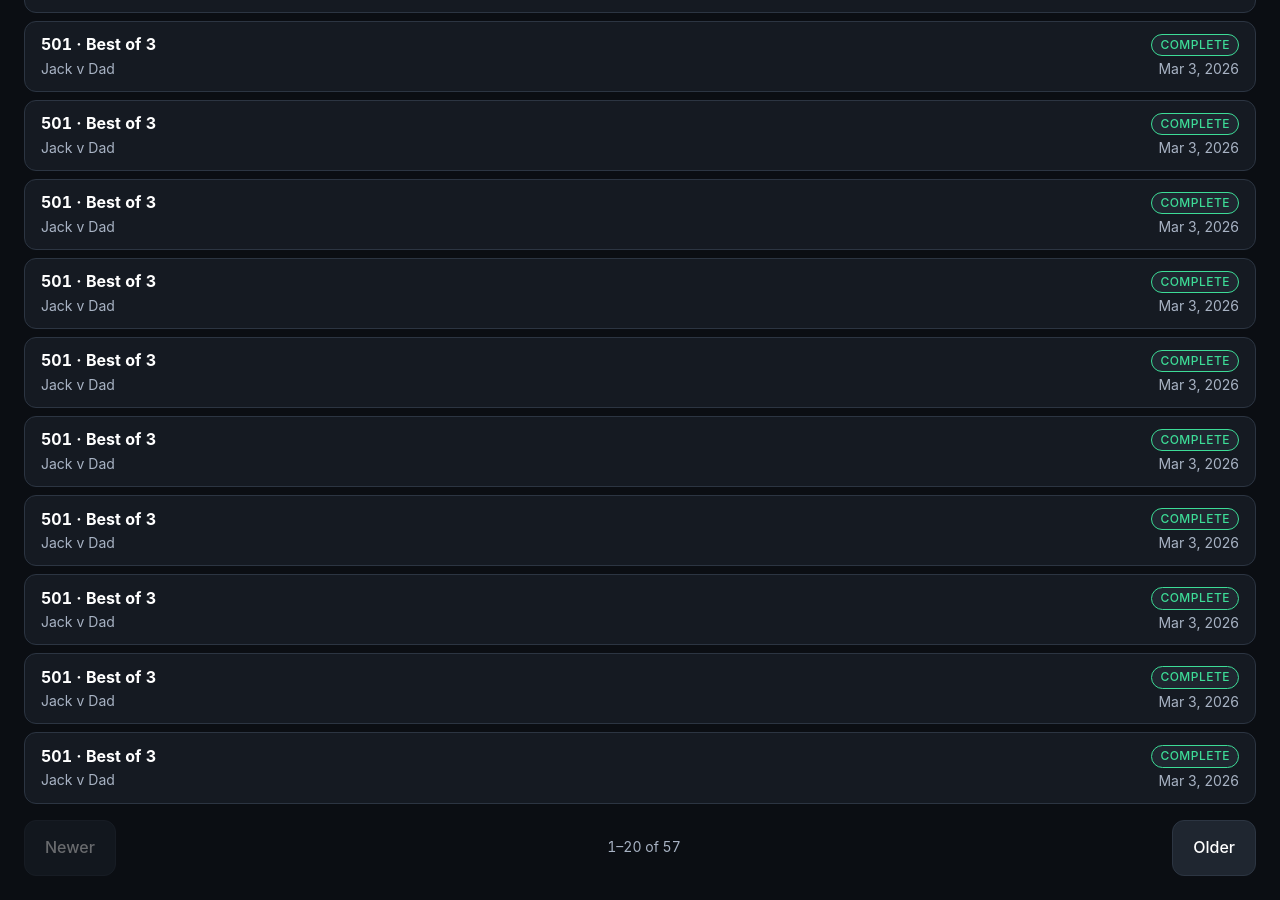
Test: the history list › pages back again, and reuses the page it already had
(page scrolled)
Expected: the text "1–20 of 57" is shown, [607,838,681,857]
Step 1. Click the button "Older" → click(1214, 848), box [1172,820,1256,876]
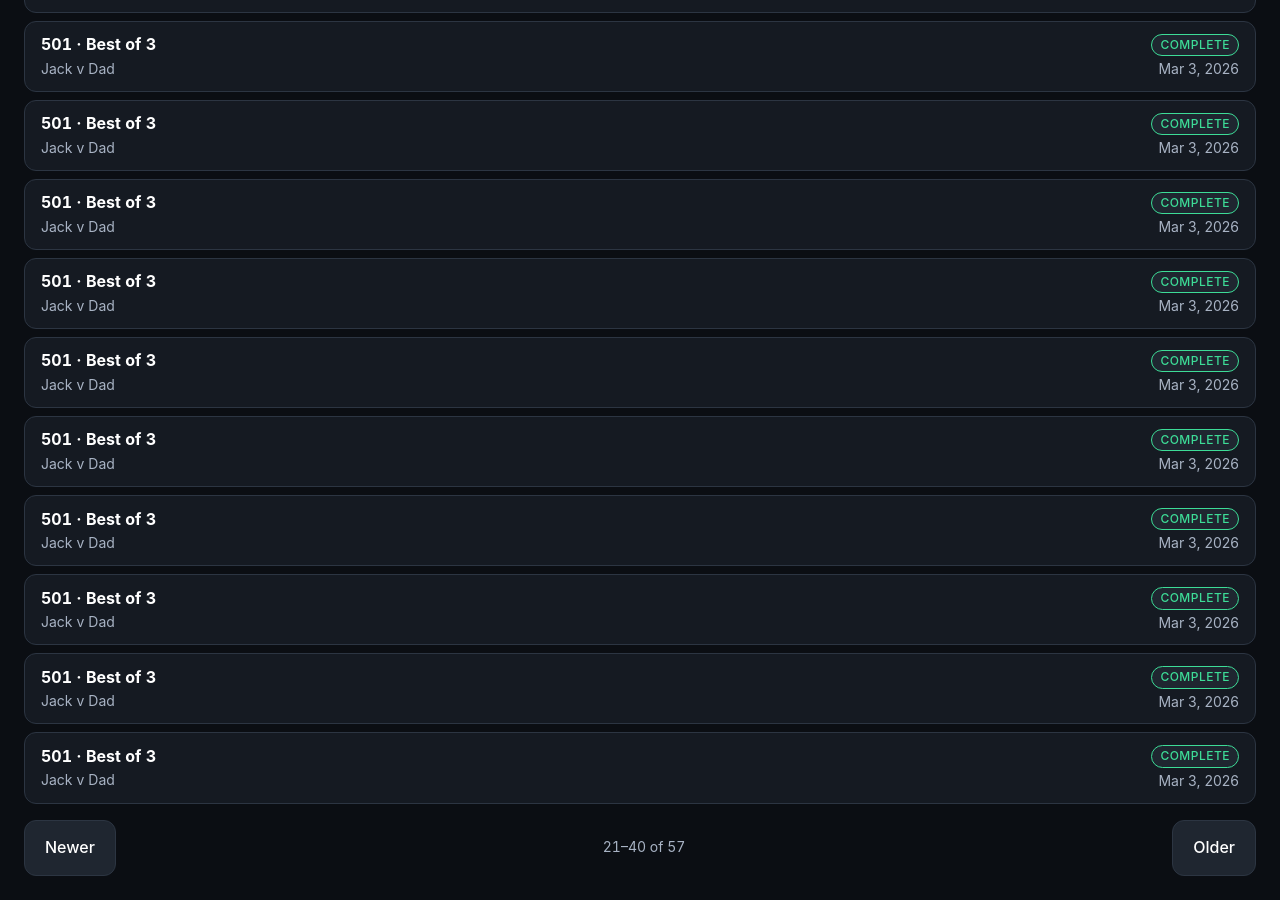
Expected: the text "21–40 of 57" is shown, [603,838,685,857]
Step 2. Click the button "Newer" → click(70, 848), box [24,820,116,876]
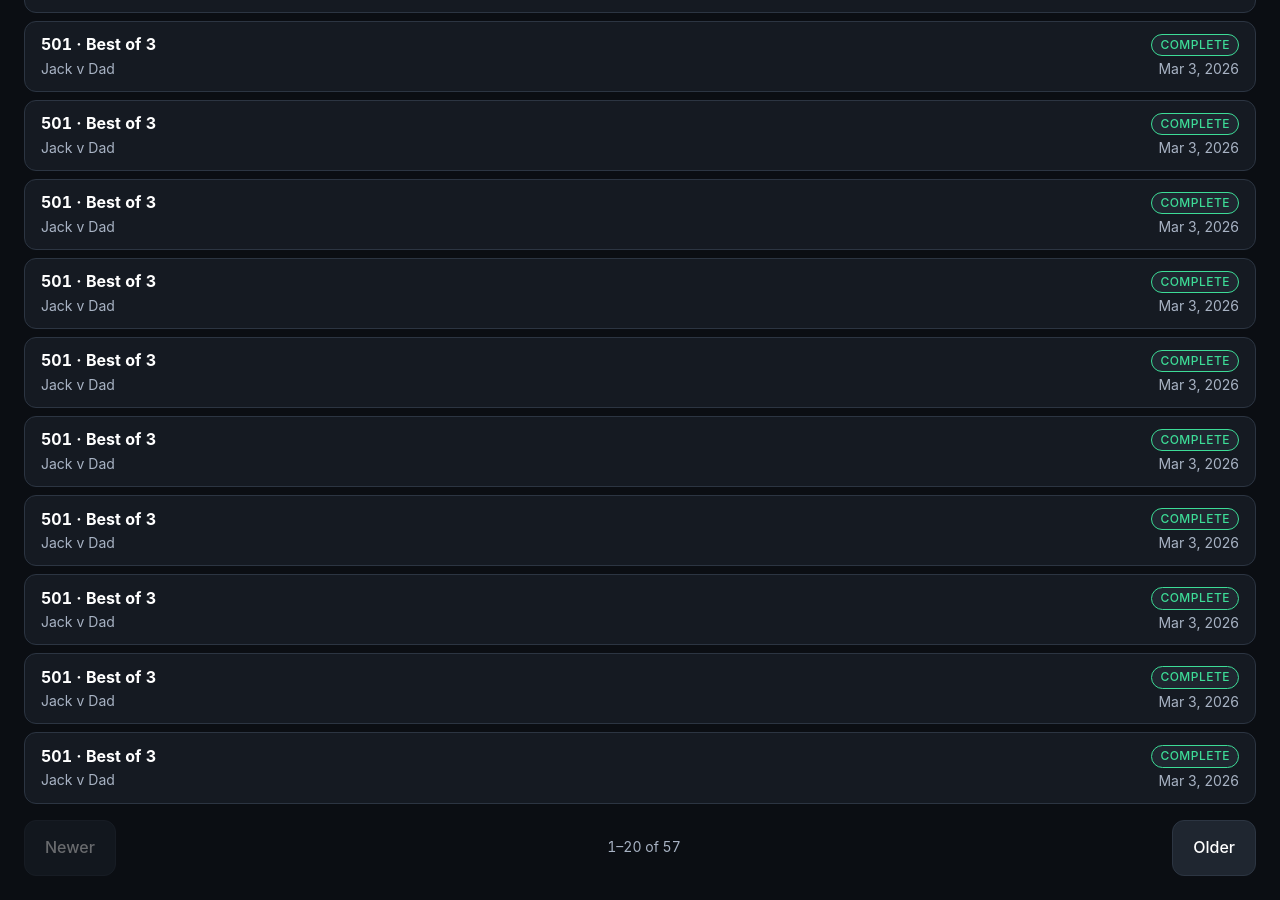
Expected: the text "1–20 of 57" is shown, [607,838,681,857]
